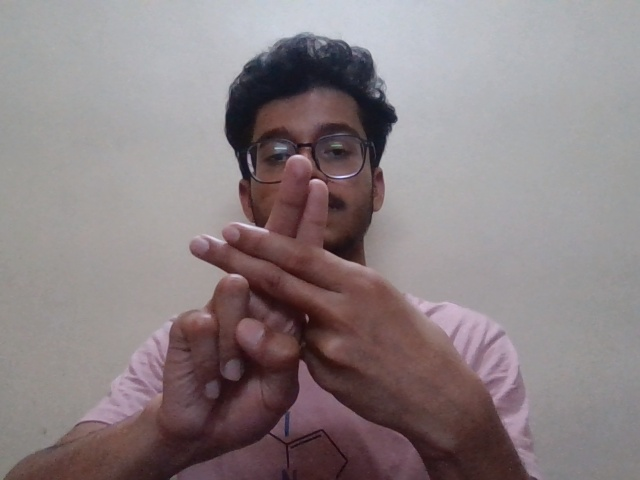disabled: (124, 153, 497, 452)
